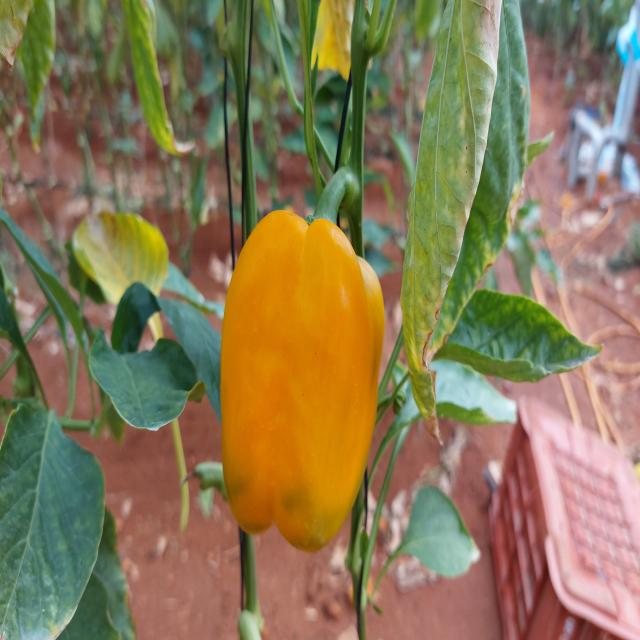Yellow-Ready-to-Harvest: (219, 206, 385, 555)
